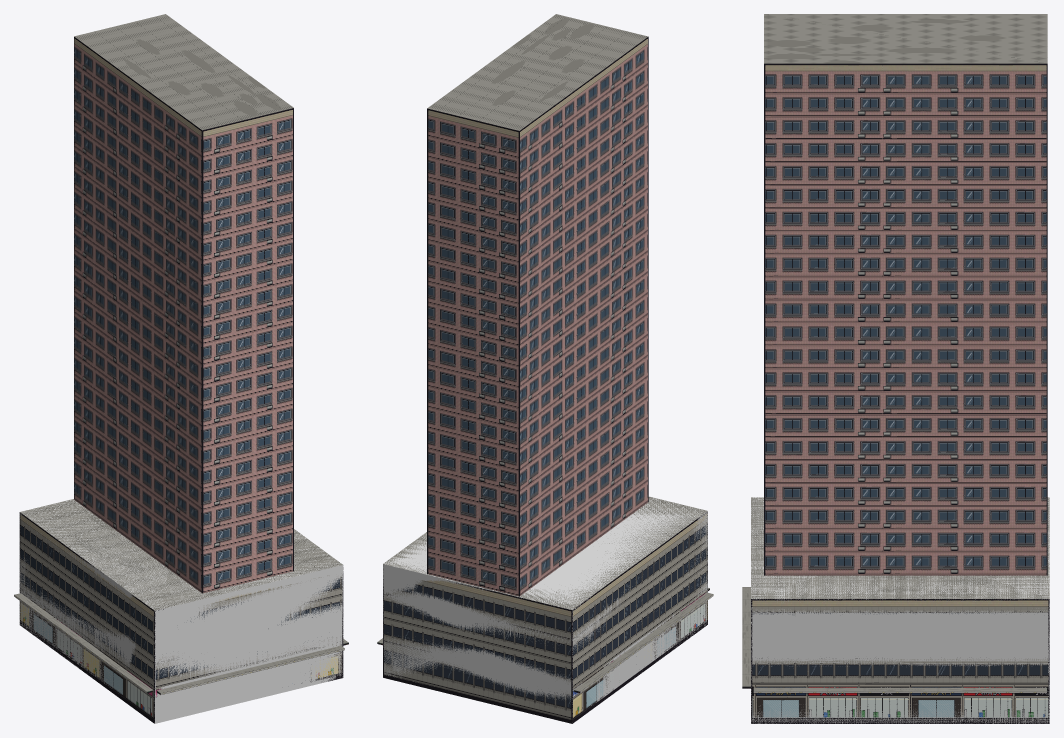
The picture shows the model from 3 angles, left to right: view 1: azimuth 30°, elevation 25°; view 2: azimuth 150°, elevation 25°; view 3: azimuth 270°, elevation 25°; orthographic projection. The views are drawn at different scales.
Visible parts, largest first — view 1: 19D-P01, COL_19D-P01_0; view 2: 19D-P01, COL_19D-P01_0; view 3: 19D-P01, COL_19D-P01_0.
Boxes of the visible parts, x1=… form: 19D-P01: x1=14, y1=14, x2=348, y2=723; COL_19D-P01_0: x1=19, y1=500, x2=343, y2=723; 19D-P01: x1=377, y1=14, x2=713, y2=723; COL_19D-P01_0: x1=383, y1=496, x2=707, y2=722; 19D-P01: x1=742, y1=14, x2=1049, y2=723; COL_19D-P01_0: x1=751, y1=497, x2=1049, y2=723.
Bounding box in the file's own units: 29.9 × 81.5 × 35.6.
Materials: 1 (1 with a texture image).
